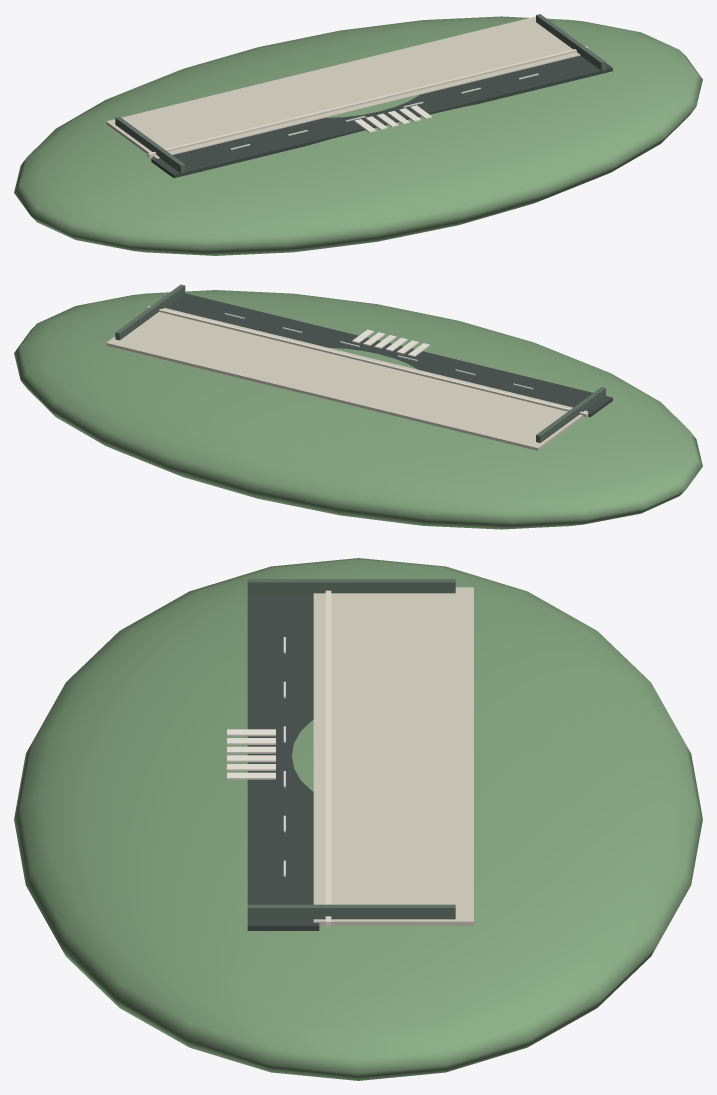
Rendered from street_base.glb.
3 views of the same model, one above another, from view 1: azimuth 30°, elevation 25°; view 2: azimuth 150°, elevation 25°; view 3: azimuth 270°, elevation 25° (orthographic). The views are drawn at different scales.
Visible parts, largest first — view 1: small_planet_ground, sidewalk, asphalt, curb, edge_-5.65, edge_5.65; view 2: small_planet_ground, sidewalk, asphalt, curb, edge_5.65, edge_-5.65; view 3: small_planet_ground, sidewalk, asphalt, edge_5.65, edge_-5.65, curb.
Boxes of the visible parts, box(x1,y1,x2,y2) form: small_planet_ground: box(14, 16, 702, 255); sidewalk: box(106, 16, 580, 158); asphalt: box(151, 55, 612, 178); curb: box(147, 46, 588, 157); edge_-5.65: box(115, 116, 185, 173); edge_5.65: box(536, 14, 605, 70); small_planet_ground: box(14, 290, 702, 529); sidewalk: box(106, 308, 588, 450); asphalt: box(166, 293, 612, 417); curb: box(147, 306, 588, 417); edge_5.65: box(115, 284, 185, 340); edge_-5.65: box(536, 387, 605, 442); small_planet_ground: box(14, 558, 702, 1080); sidewalk: box(313, 587, 473, 925); asphalt: box(247, 594, 319, 930); edge_5.65: box(247, 904, 455, 920); edge_-5.65: box(247, 579, 455, 594); curb: box(325, 590, 331, 926).
Size of the model in its own units: 17.6 by 2.28 by 10.1.
